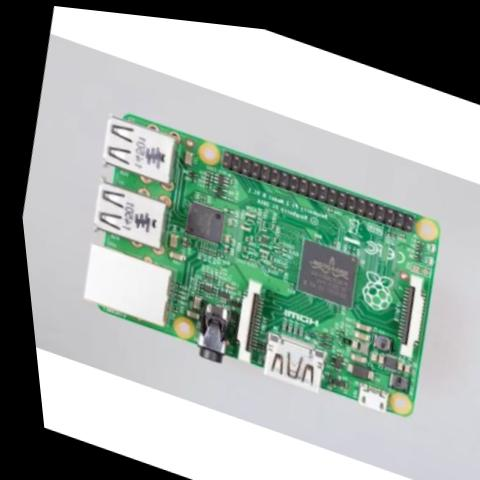Raspberry-Pi-2-Model-B: (35, 83, 469, 438)
